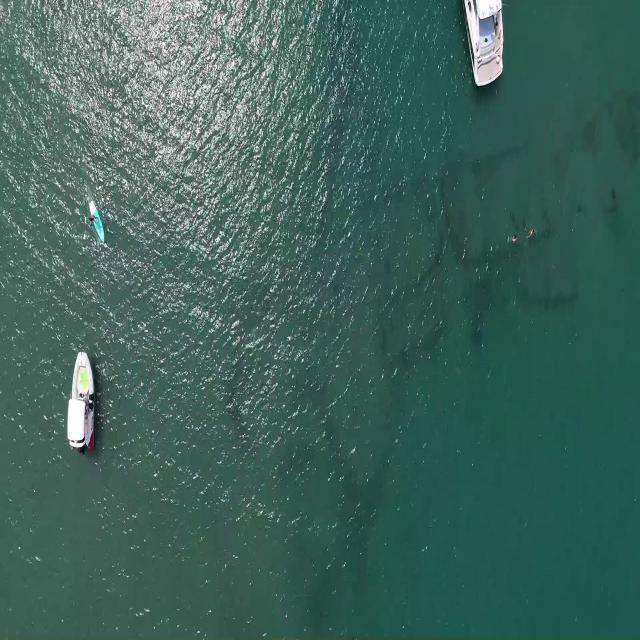boat: (65, 339, 97, 460), (462, 0, 505, 87)
person: (526, 228, 540, 242), (87, 211, 99, 226), (511, 233, 518, 243)
surfboard: (88, 196, 103, 246)
